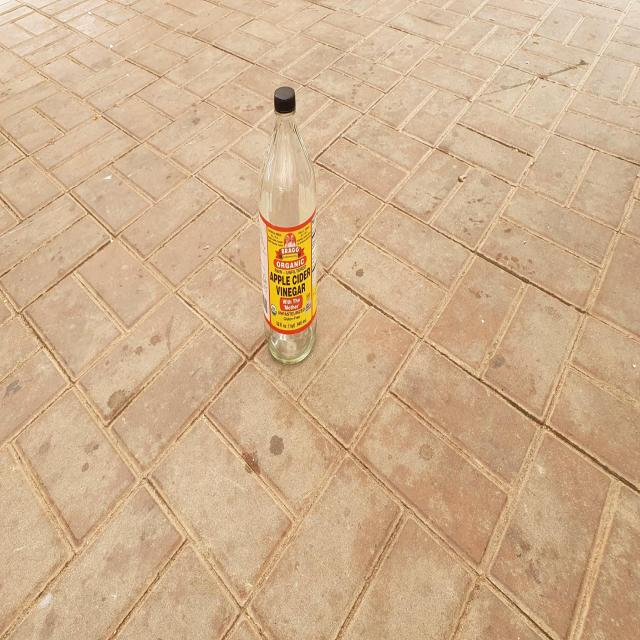glass: (259, 87, 317, 362)
